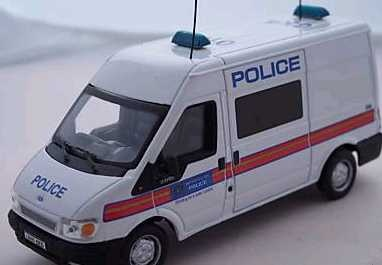Police Van: (23, 8, 377, 264)
